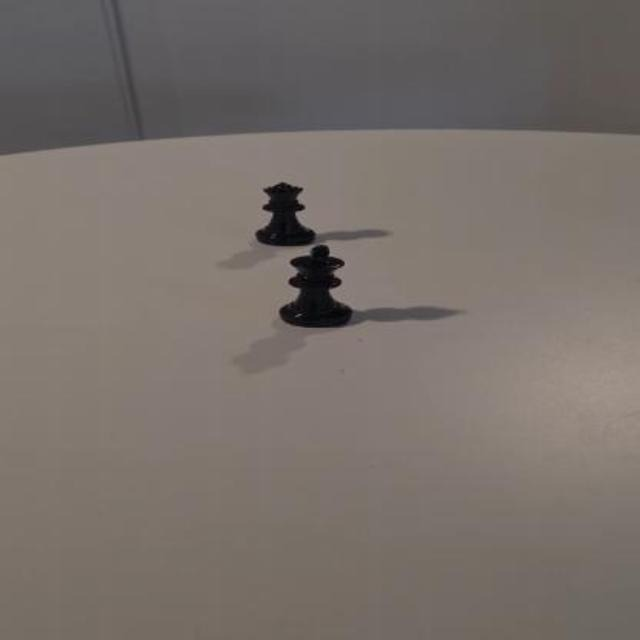black-king: (278, 245, 353, 328)
black-queen: (254, 182, 315, 245)
